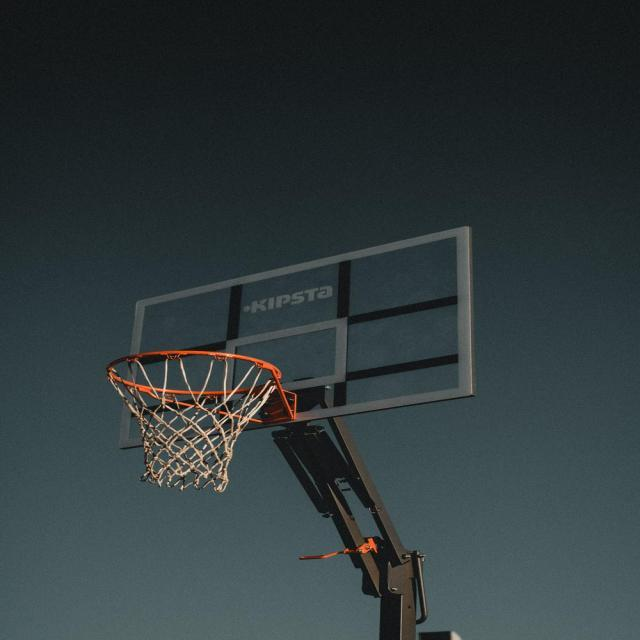hoop: (106, 350, 282, 492)
